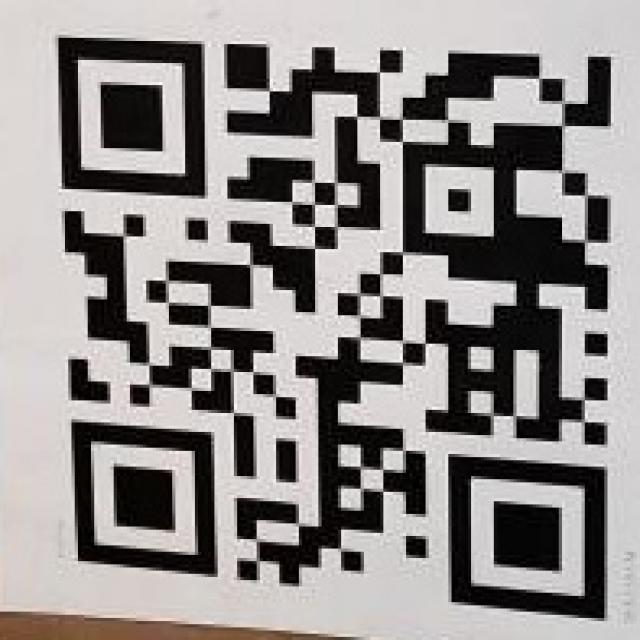QR_CODE: (55, 34, 614, 622)
